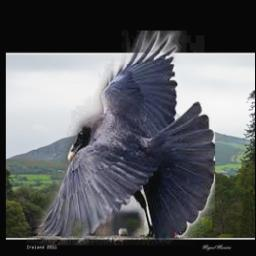Crow: (26, 32, 215, 246)
